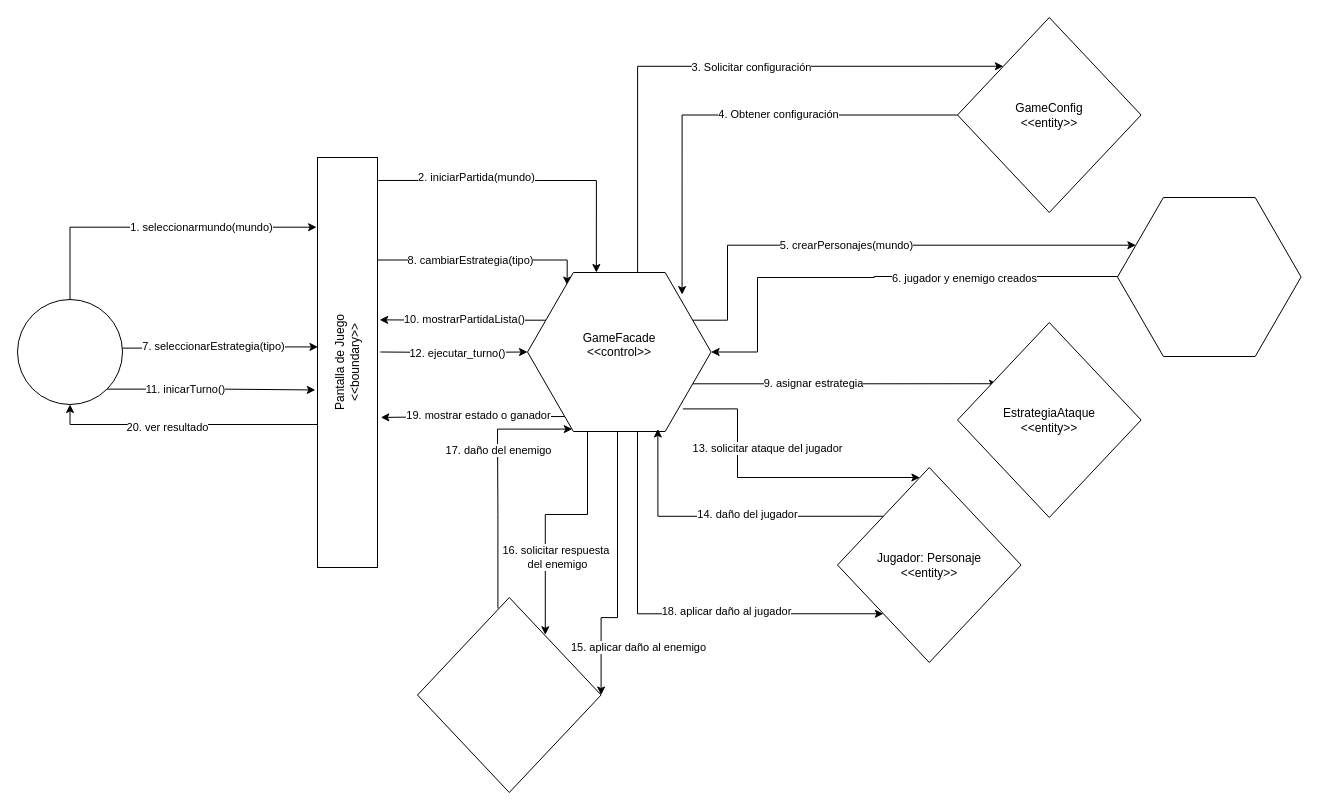
Image size: 1319x810. Some labels were removed from this diagram. The centre of each missing label's shape, as x and y in pixels:
"Enemigo: Personaje <<entity>>" goes at (x=508, y=694).
"Jugador actor" goes at (x=69, y=351).
"MundoFactory <<control>>" goes at (x=1208, y=276).
